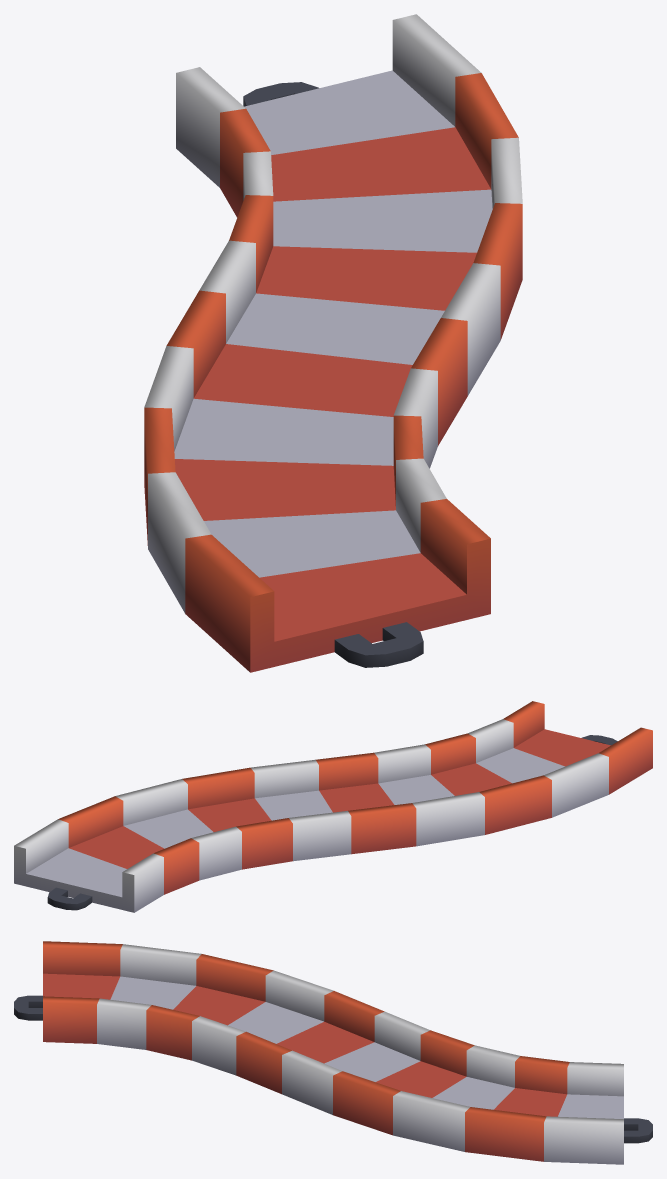
The model's file is track-striped-narrow-curve.glb.
The picture shows the model from 3 angles, top to bottom: view 1: azimuth 30°, elevation 25°; view 2: azimuth 150°, elevation 25°; view 3: azimuth 270°, elevation 25°; orthographic projection. The views are drawn at different scales.
Visible parts, largest first — view 1: track-striped-narrow-curve; view 2: track-striped-narrow-curve; view 3: track-striped-narrow-curve.
Part boxes in pixels (x1=…): track-striped-narrow-curve: x1=144, y1=14, x2=522, y2=672; track-striped-narrow-curve: x1=14, y1=701, x2=652, y2=912; track-striped-narrow-curve: x1=14, y1=941, x2=652, y2=1164.
Size of the model in its own units: 3 by 0.3 by 4.4.
